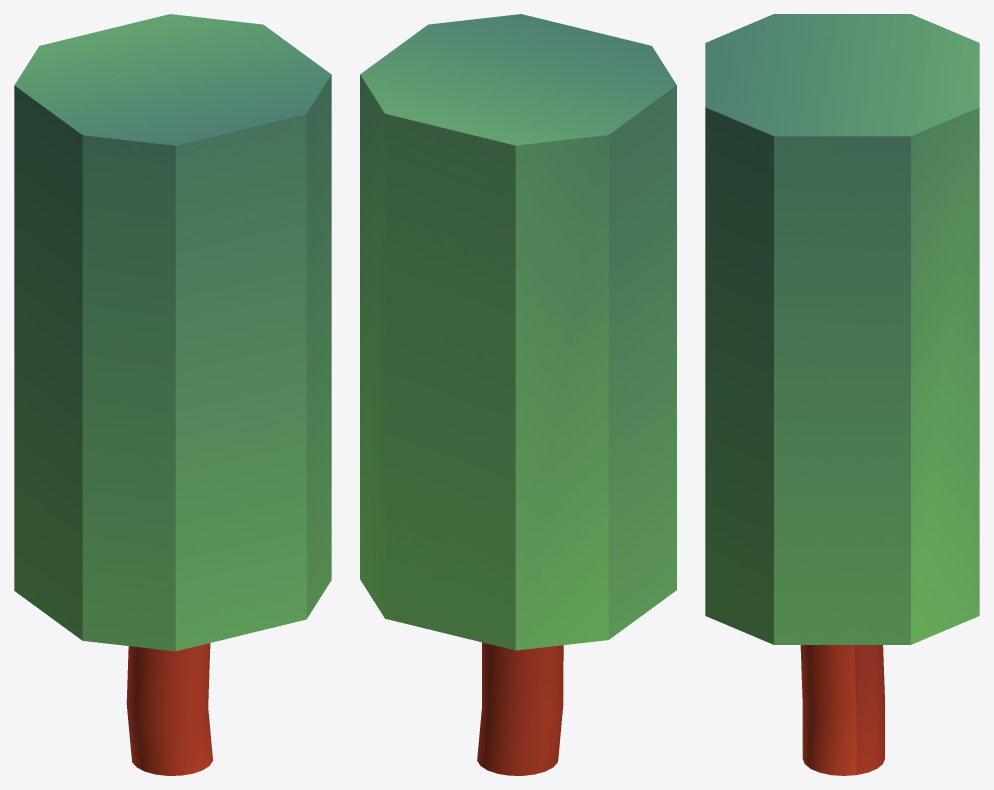
File: tree3.fbx
3 views of the same model, side by side, from view 1: azimuth 30°, elevation 25°; view 2: azimuth 150°, elevation 25°; view 3: azimuth 270°, elevation 25° (orthographic).
Visible parts, largest first — view 1: pCube2; view 2: pCube2; view 3: pCube2.
Boxes of the visible parts, x1,y1,x2,y2 form: pCube2: (14,14,331,775); pCube2: (360,14,676,775); pCube2: (705,14,979,775).
Size of the model in its own units: 1.54 by 4.01 by 1.46.
Materials: 2 (2 with a texture image).
